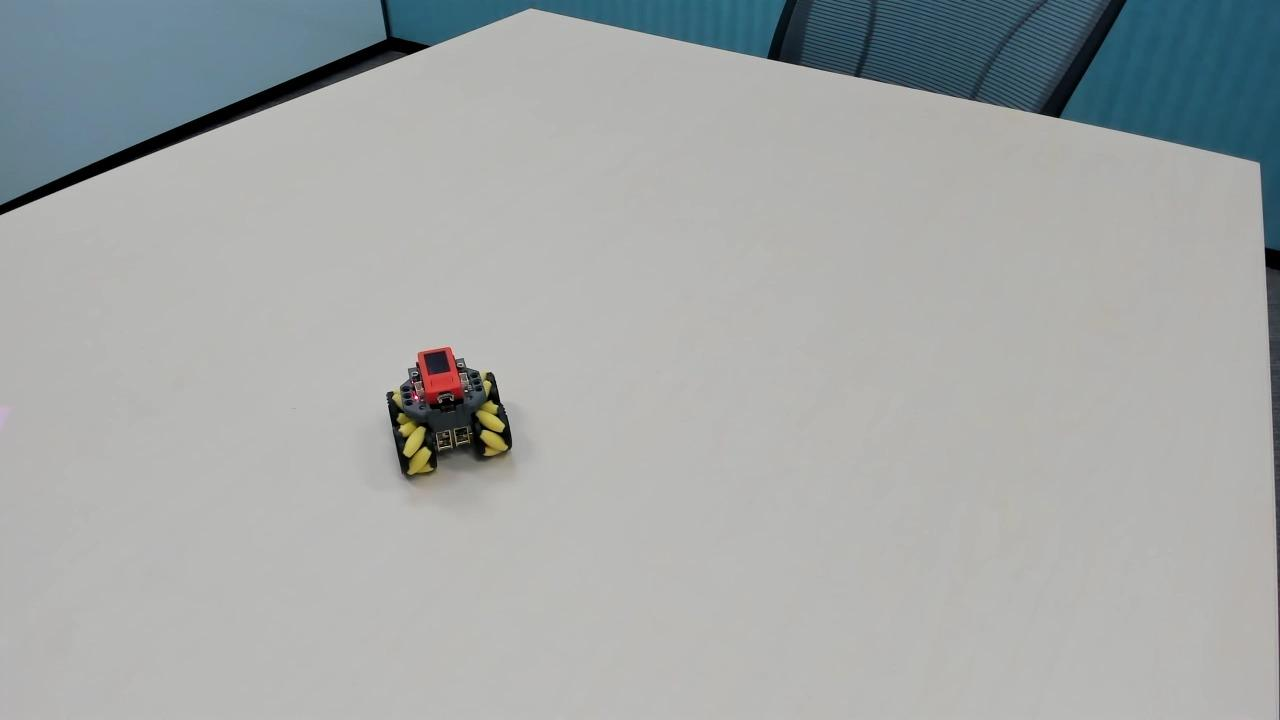R-Robot: (374, 320, 519, 498)
